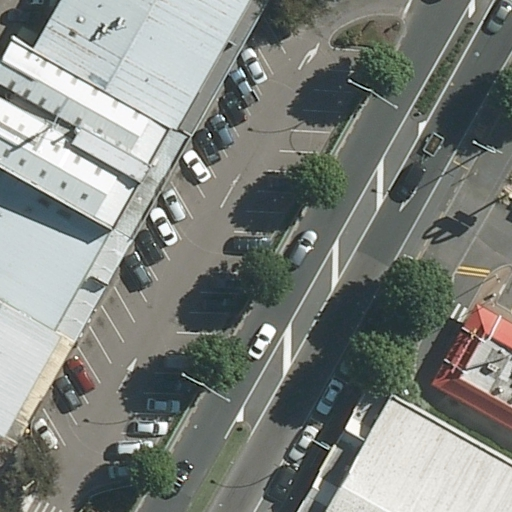DT: (471, 141, 497, 156)
